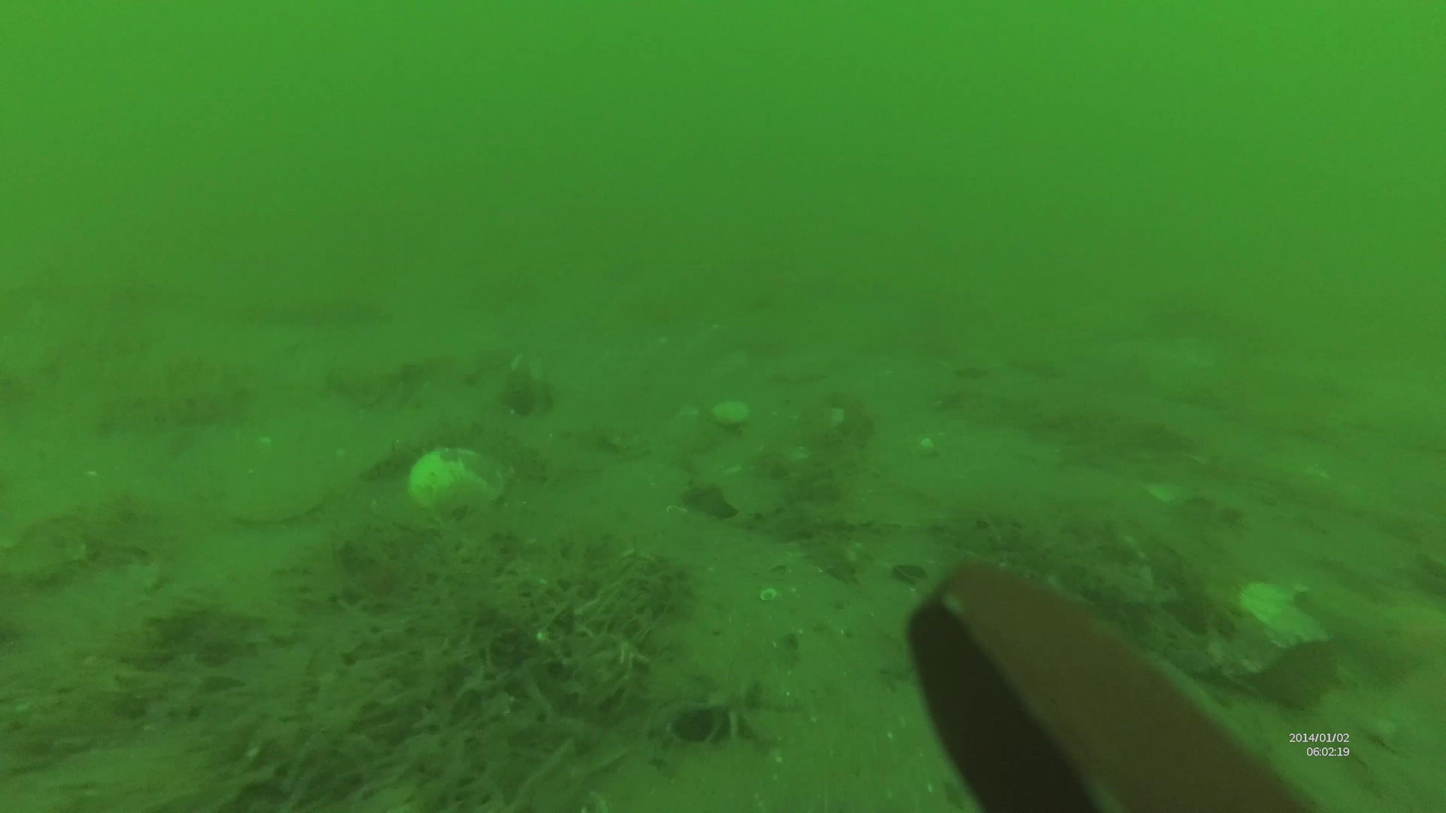scallop: (406, 447, 503, 509), (712, 399, 762, 432)
